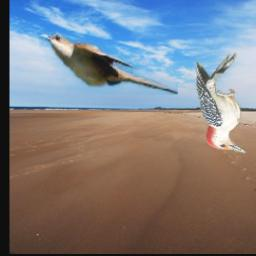Cuckoo: (39, 32, 178, 95)
Woodpecker: (196, 52, 249, 153)
